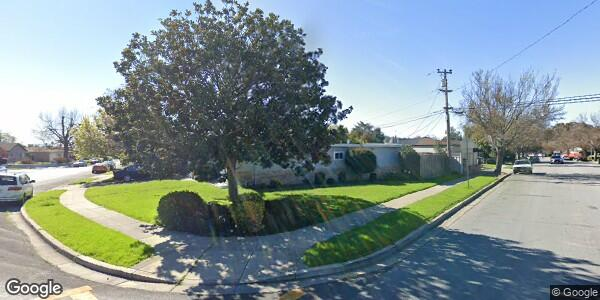Wood_Pole: (433, 66, 456, 182)
